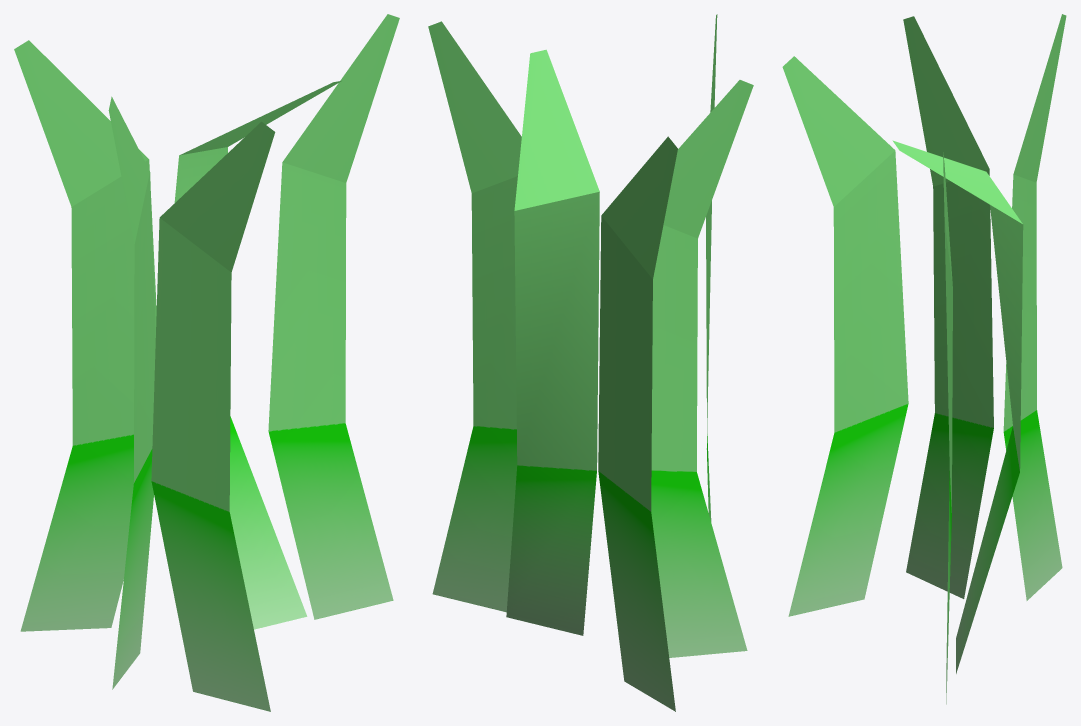
Rendered from grass.fbx.
3 renders of one model, left to right at view 1: azimuth 30°, elevation 25°; view 2: azimuth 150°, elevation 25°; view 3: azimuth 270°, elevation 25°, orthographic. The views are drawn at different scales.
Visible parts, largest first — view 1: Plane.010; view 2: Plane.010; view 3: Plane.010.
Part boxes in pixels (x1,y1,x2,y2): Plane.010: (14, 14, 399, 711); Plane.010: (428, 14, 753, 711); Plane.010: (782, 14, 1066, 704).
Bounding box in the file's own units: 18.25 × 31.99 × 14.76.
1 material, 1 textured.
